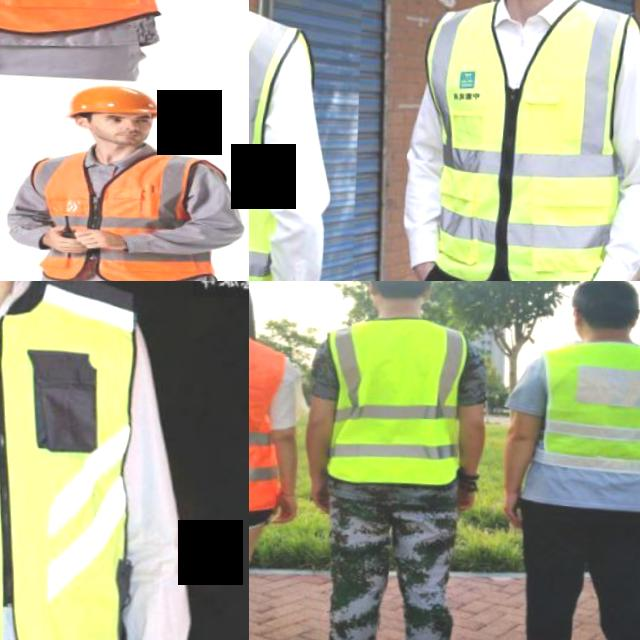vest: (417, 8, 623, 281), (0, 281, 155, 640), (305, 320, 472, 506), (32, 154, 198, 281), (529, 340, 640, 515), (249, 328, 289, 519)
